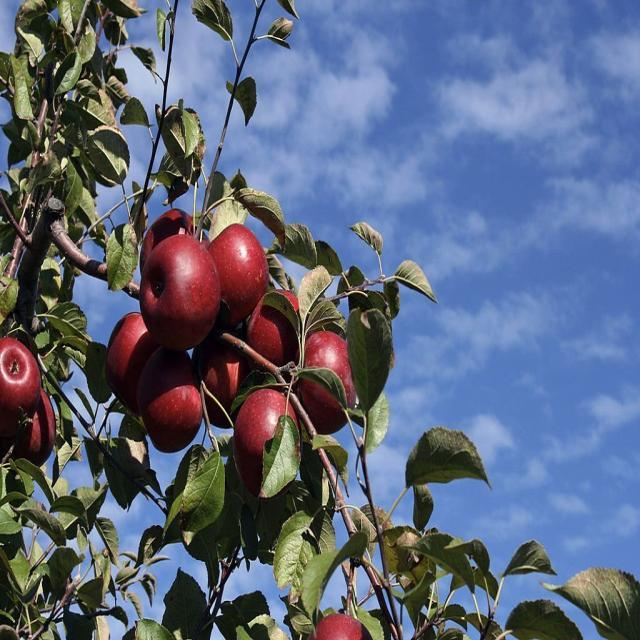Red Apple: (146, 241, 216, 337), (214, 227, 273, 325), (232, 398, 293, 486), (148, 353, 202, 435), (303, 334, 356, 414), (142, 206, 201, 272), (111, 316, 152, 407), (201, 336, 246, 408), (253, 294, 295, 371), (1, 339, 38, 408), (22, 394, 54, 455), (312, 614, 367, 640)
